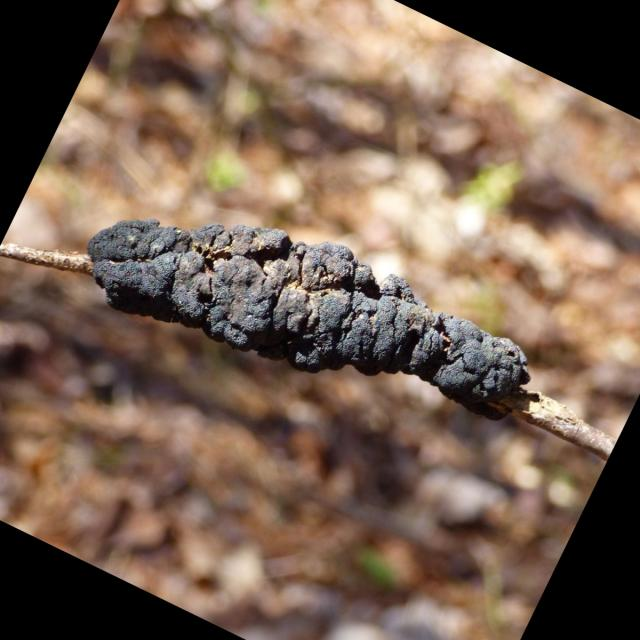Black_knot: (86, 216, 531, 419)
